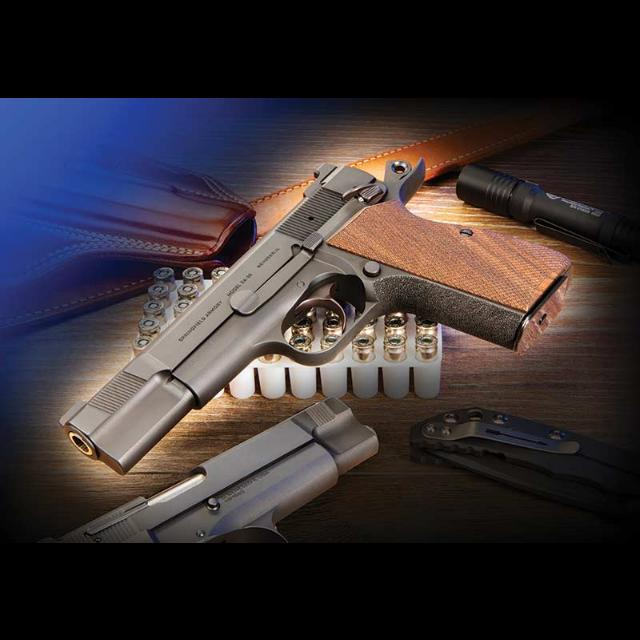handgun: (58, 150, 578, 482)
